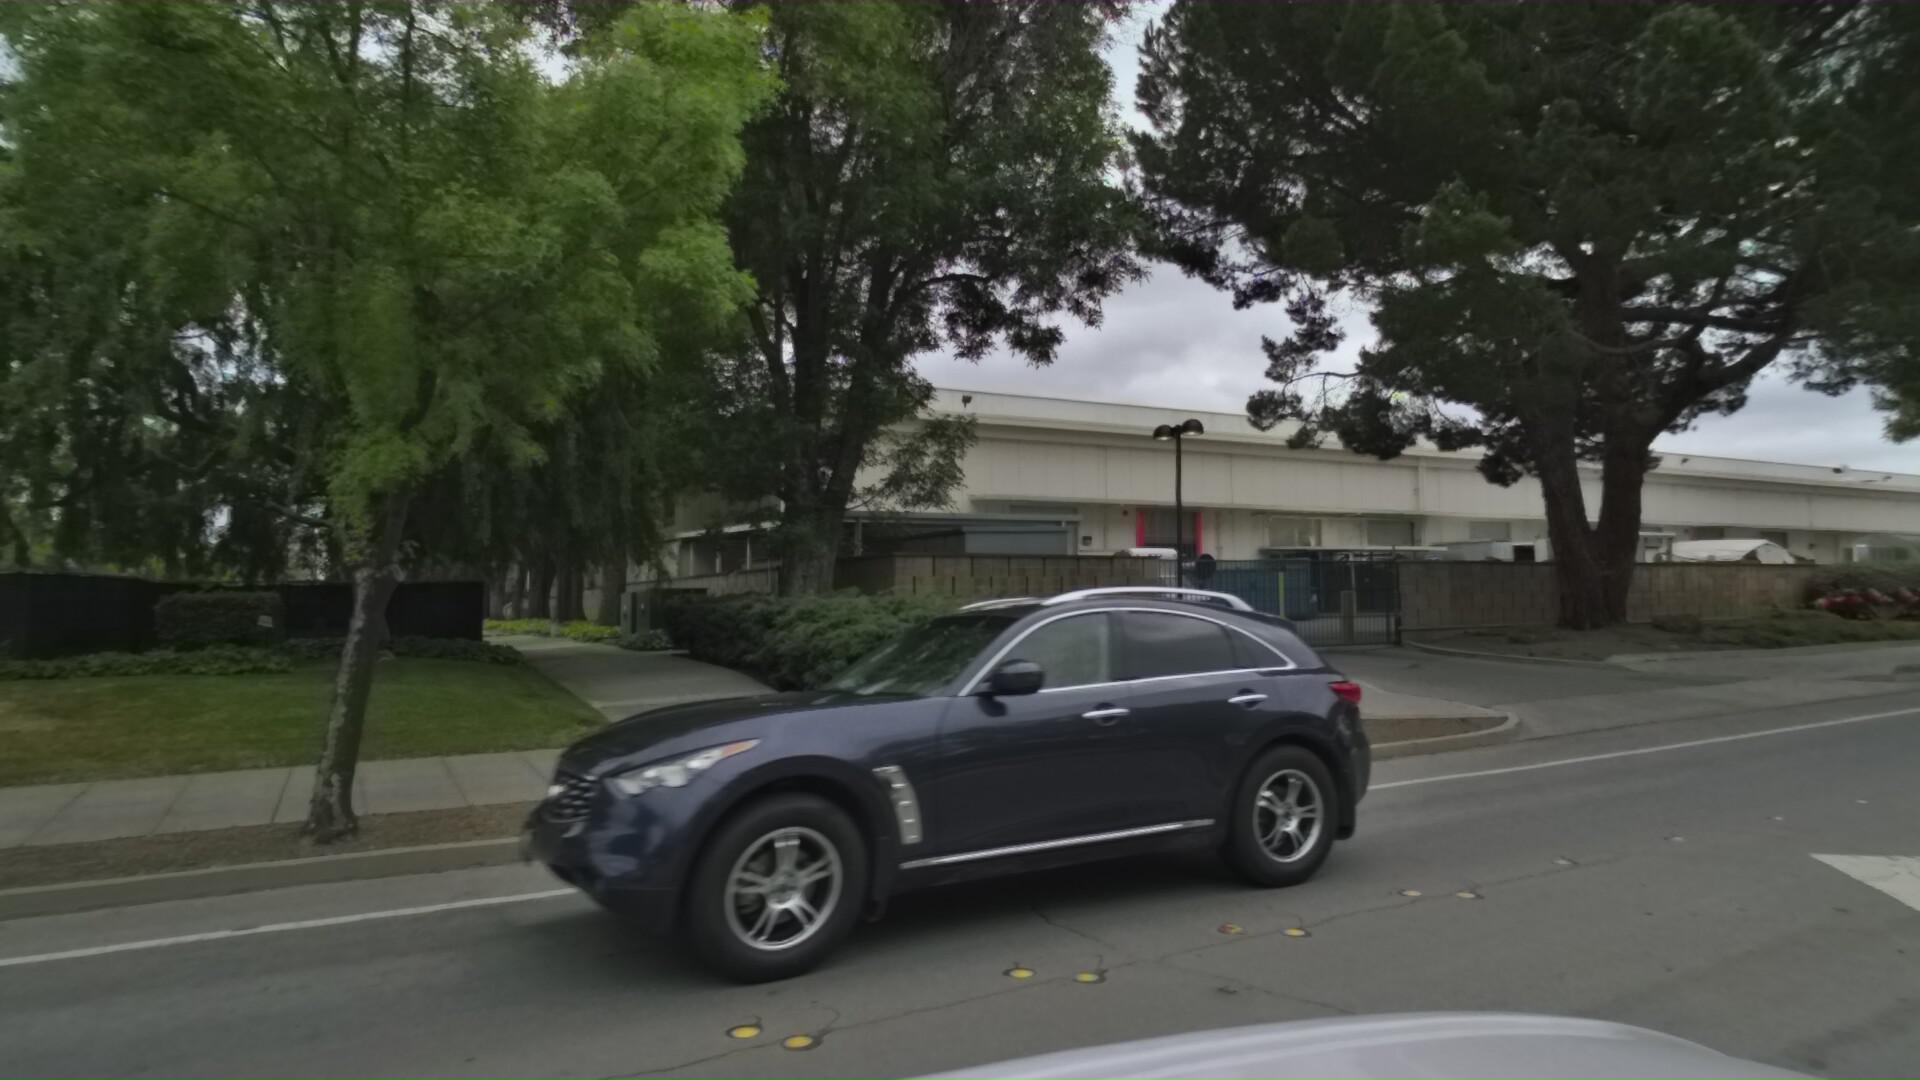car: (239, 567, 1258, 1080)
truck: (1058, 537, 1211, 630)
